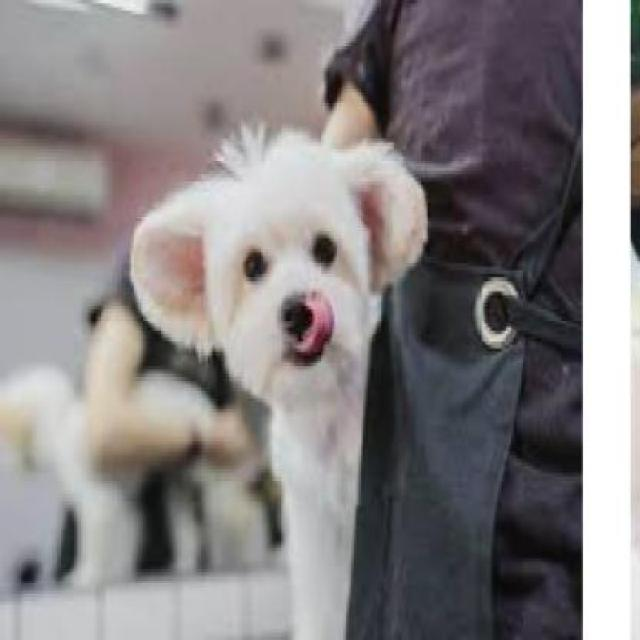Dog: (124, 103, 436, 637)
